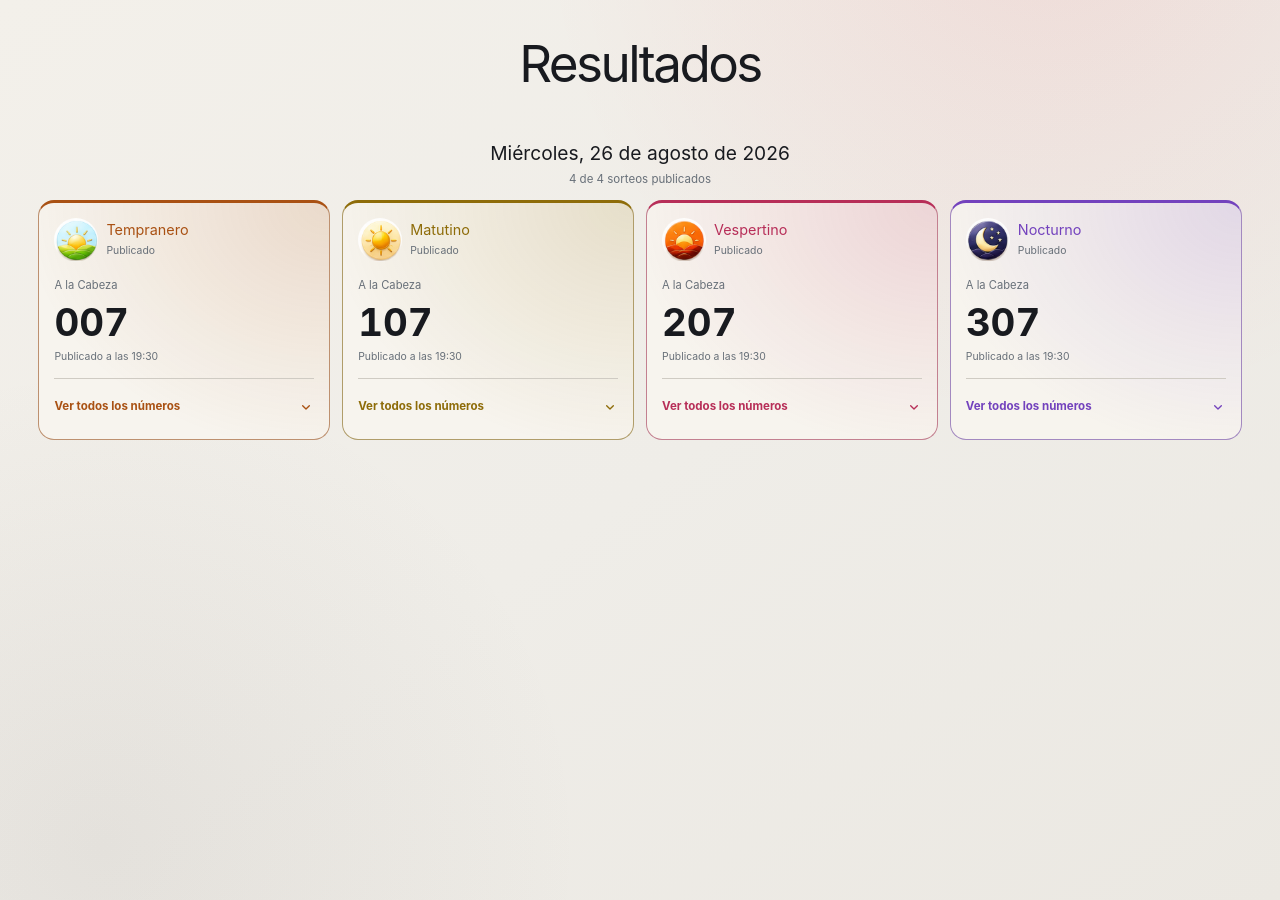
ResultsClient daily grid › switches one day panel between all four draws and closes it from the selected card
Step 1. Click the button with test id "daily-draw-toggle" below "007" → {"x": 184, "y": 402}, box top-left (54, 378), bottom-right (314, 424)
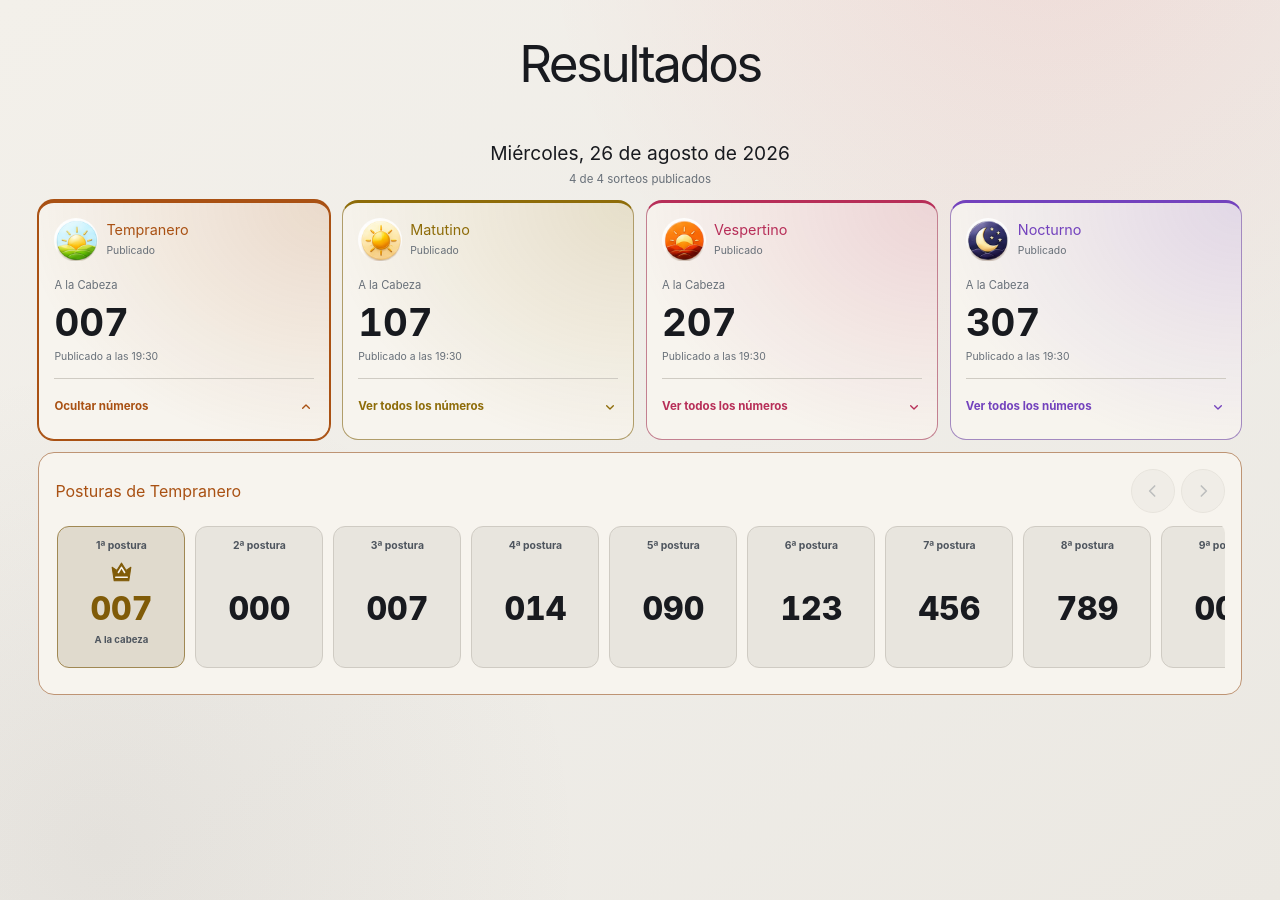
Check: the 1st text with test id "daily-draw-number" reads "007", box top-left (54, 299), bottom-right (129, 345)
Check: the number of elements with test id "draw-postures-panel" is 1, box top-left (38, 452), bottom-right (1242, 696)
Step 2. Click the button with test id "daily-draw-toggle" below "107" → {"x": 488, "y": 402}, box top-left (358, 378), bottom-right (618, 424)
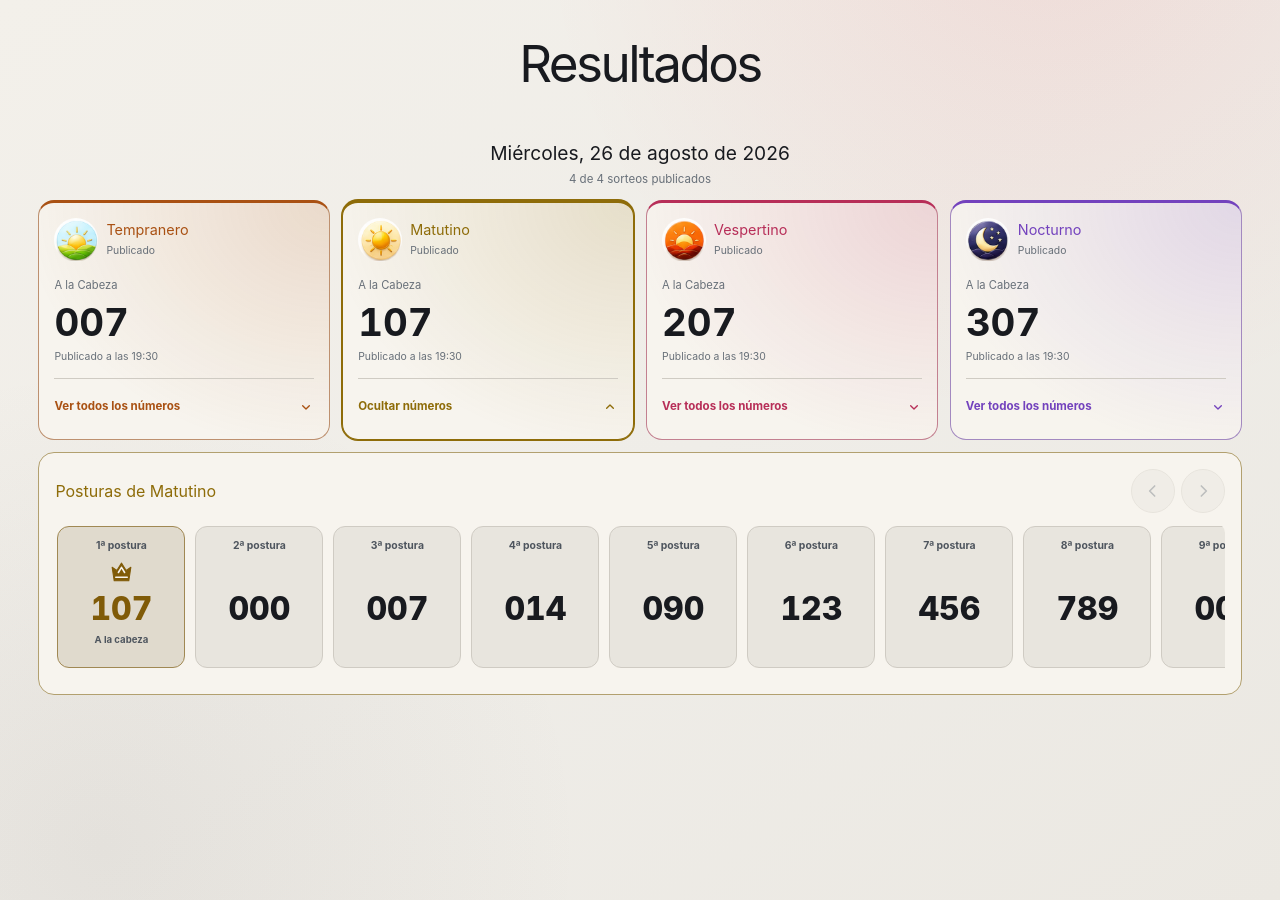
Check: the 1st text with test id "daily-draw-number" reads "107", box top-left (358, 299), bottom-right (433, 345)
Check: the number of elements with test id "draw-postures-panel" is 1, box top-left (38, 452), bottom-right (1242, 696)
Step 3. Click the button with test id "daily-draw-toggle" below "207" → {"x": 792, "y": 402}, box top-left (662, 378), bottom-right (922, 424)
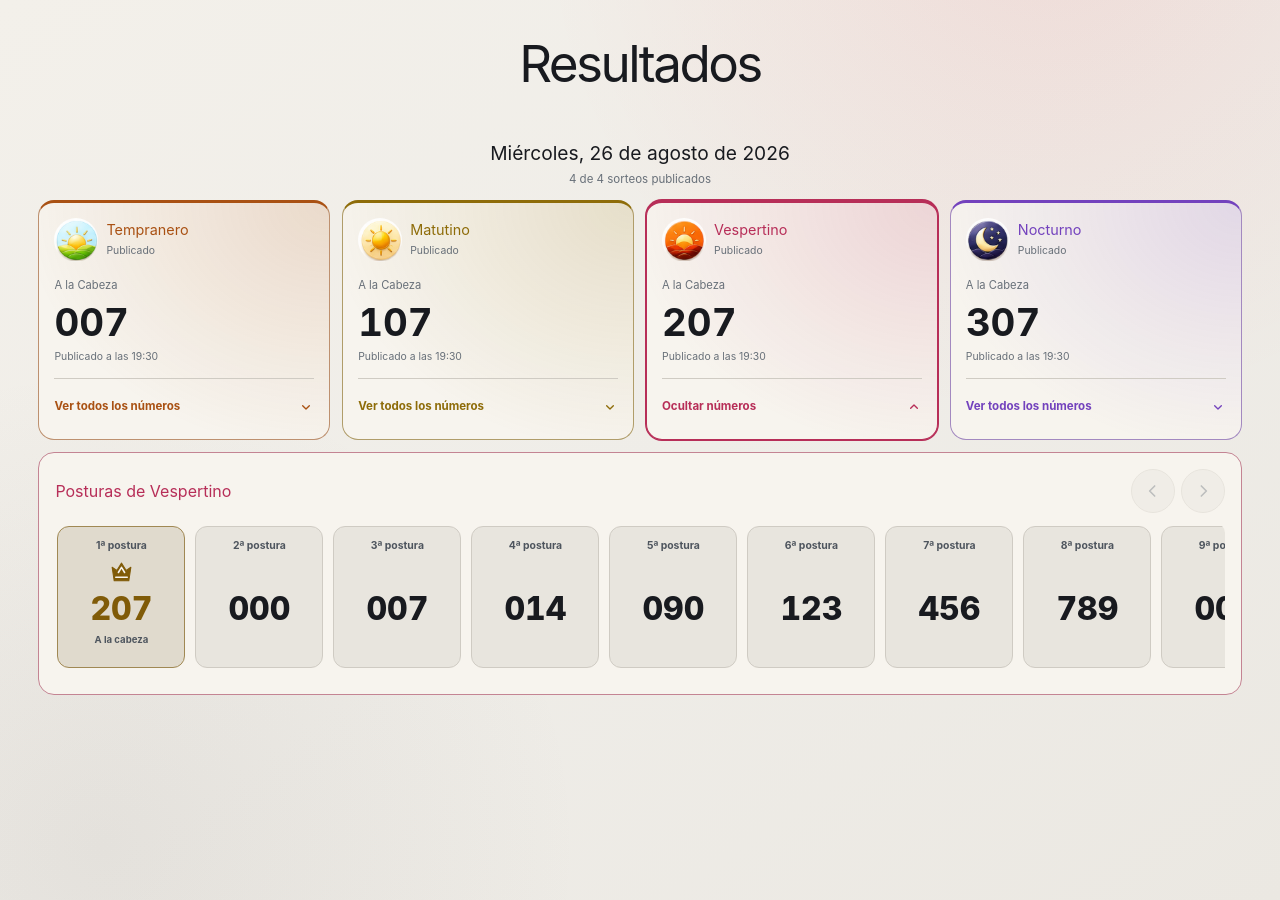
Check: the 1st text with test id "daily-draw-number" reads "207", box top-left (662, 299), bottom-right (736, 345)
Check: the number of elements with test id "draw-postures-panel" is 1, box top-left (38, 452), bottom-right (1242, 696)
Step 4. Click the button with test id "daily-draw-toggle" below "307" → {"x": 1096, "y": 402}, box top-left (966, 378), bottom-right (1226, 424)
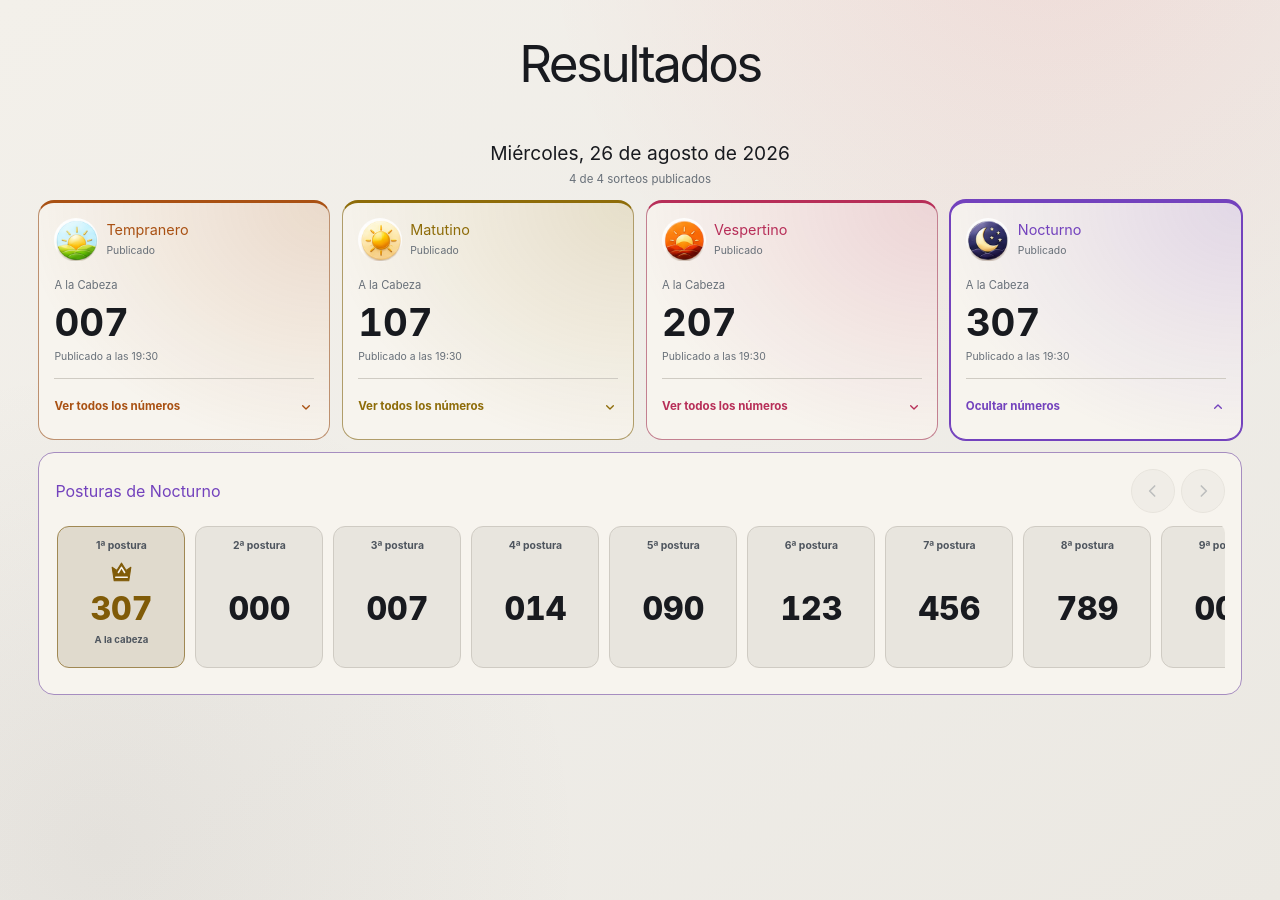
Check: the 1st text with test id "daily-draw-number" reads "307", box top-left (966, 299), bottom-right (1040, 345)
Check: the number of elements with test id "draw-postures-panel" is 1, box top-left (38, 452), bottom-right (1242, 696)
Step 5. Click the button with test id "daily-draw-toggle" showing "Ocultar números" → {"x": 1096, "y": 402}, box top-left (966, 378), bottom-right (1226, 424)
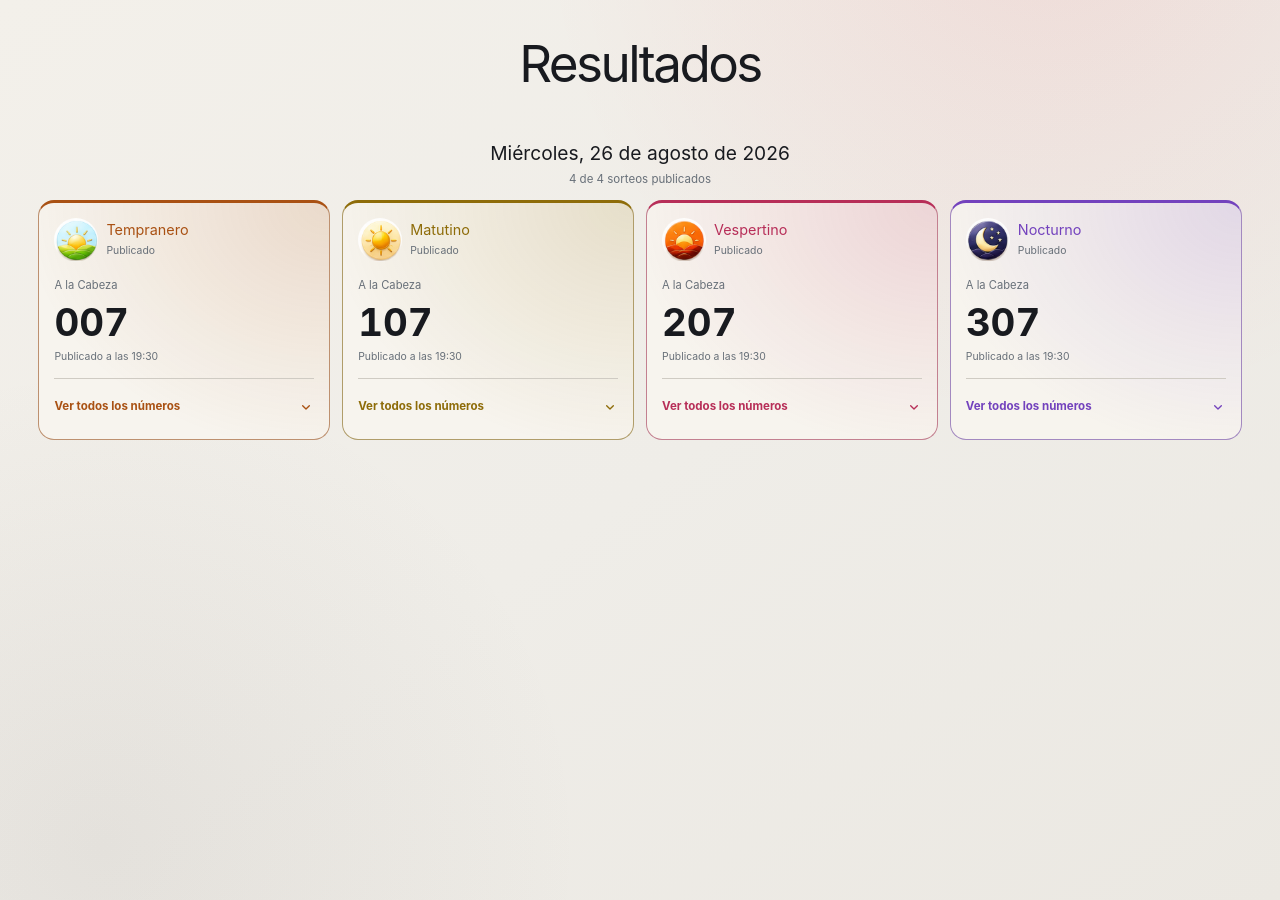
Check: the element with test id "draw-postures-panel" is gone
